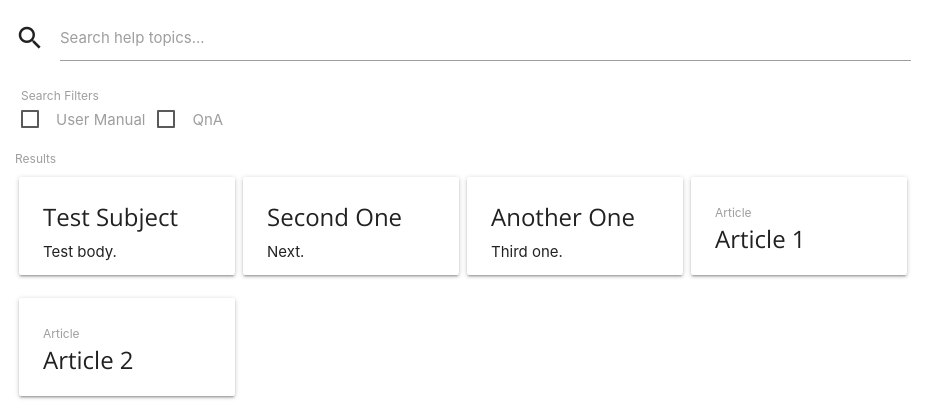
Search page renders filtered topics
Note: Test with User Manual alone checked.
Click the checkbox with id "user-manual-checkbox" at x=101, y=119, box x1=56 y1=110 x2=146 y2=128
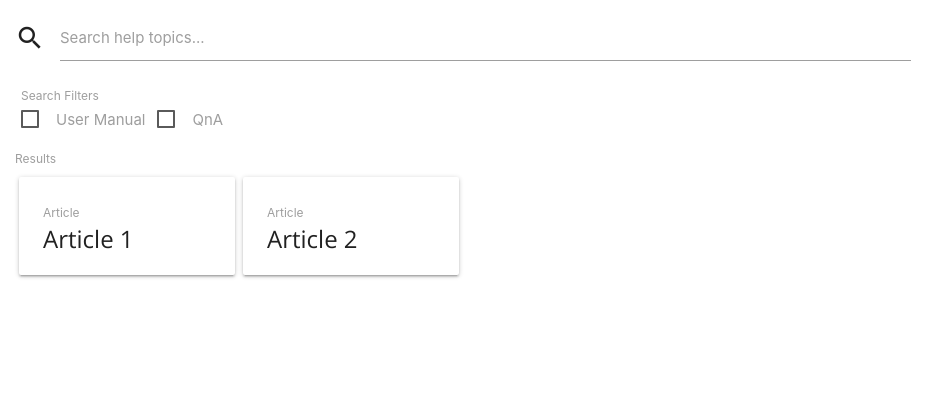
Note: Test with User Manual and QnA checked
Click the checkbox labelled "QnA" at x=208, y=119, box x1=192 y1=110 x2=223 y2=128
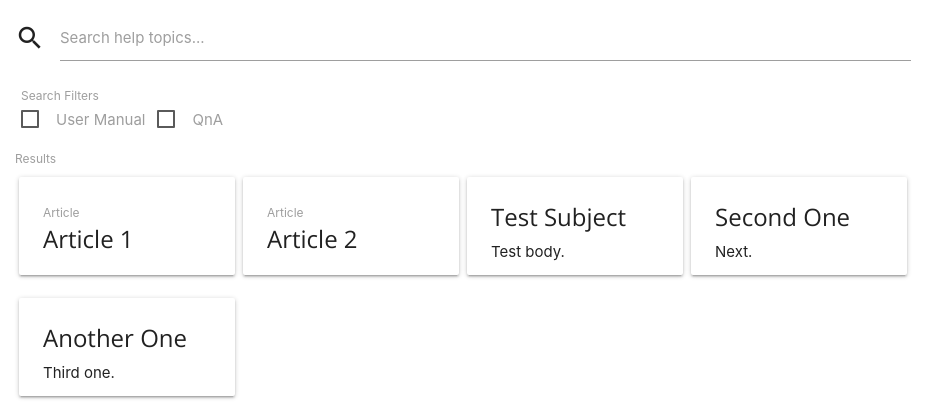
Click the checkbox with id "user-manual-checkbox" at x=101, y=119, box x1=56 y1=110 x2=146 y2=128
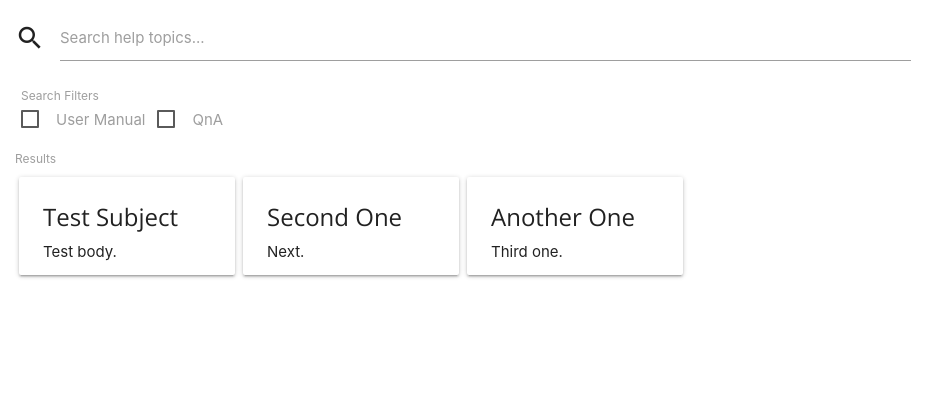
Note: Type "Test" into the search input widget
Type "Test" into the field with id "search-input" at x=486, y=38, box x1=60 y1=15 x2=911 y2=61
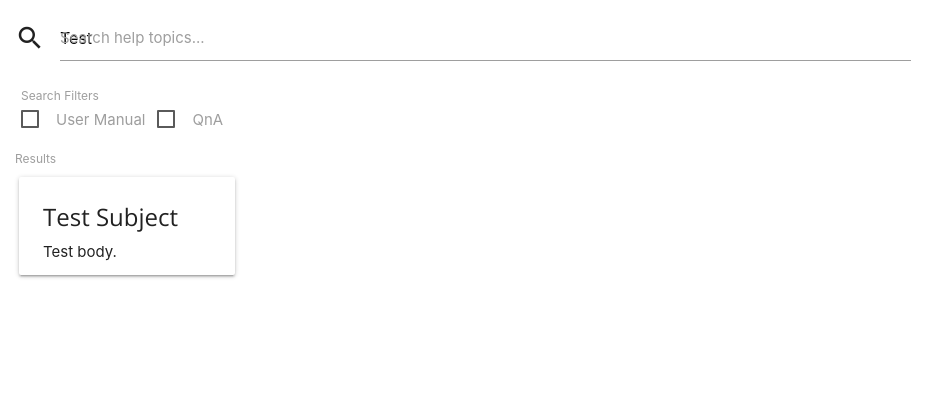
Expected: the text with class "card-title" reads "Test Subject", x1=43 y1=200 x2=178 y2=232
Expected: the text "Test body." is shown, x1=43 y1=242 x2=117 y2=260
Note: Type "Second" into the search input widget
Replace the text in the field with id "search-input" with "Second" at x=486, y=38, box x1=60 y1=15 x2=911 y2=61
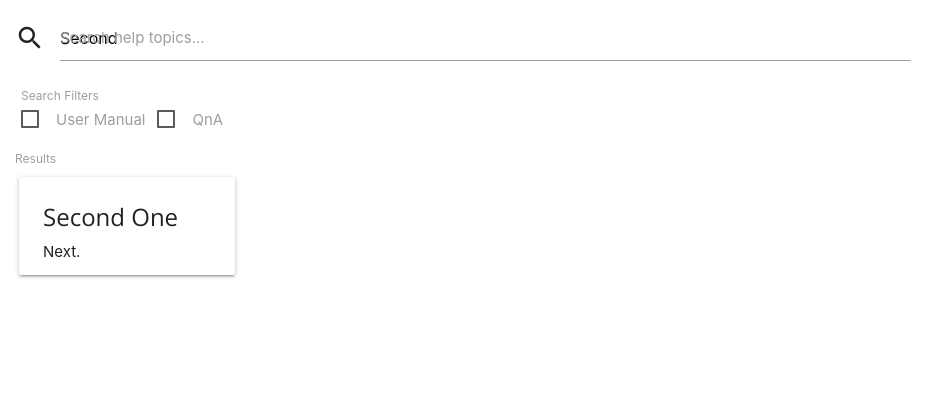
Expected: the text with class "card-title" reads "Second One", x1=43 y1=200 x2=178 y2=232
Expected: the text "Next." is shown, x1=43 y1=242 x2=80 y2=260
Note: Type "Second" into the search input widget
Replace the text in the field with id "search-input" with "\"Third one.\"" at x=486, y=38, box x1=60 y1=15 x2=911 y2=61
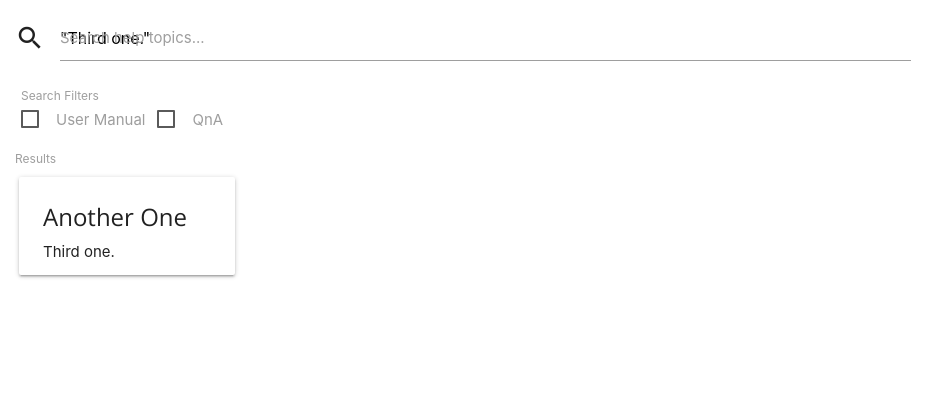
Expected: the text with class "card-title" reads "Another One", x1=43 y1=200 x2=187 y2=232
